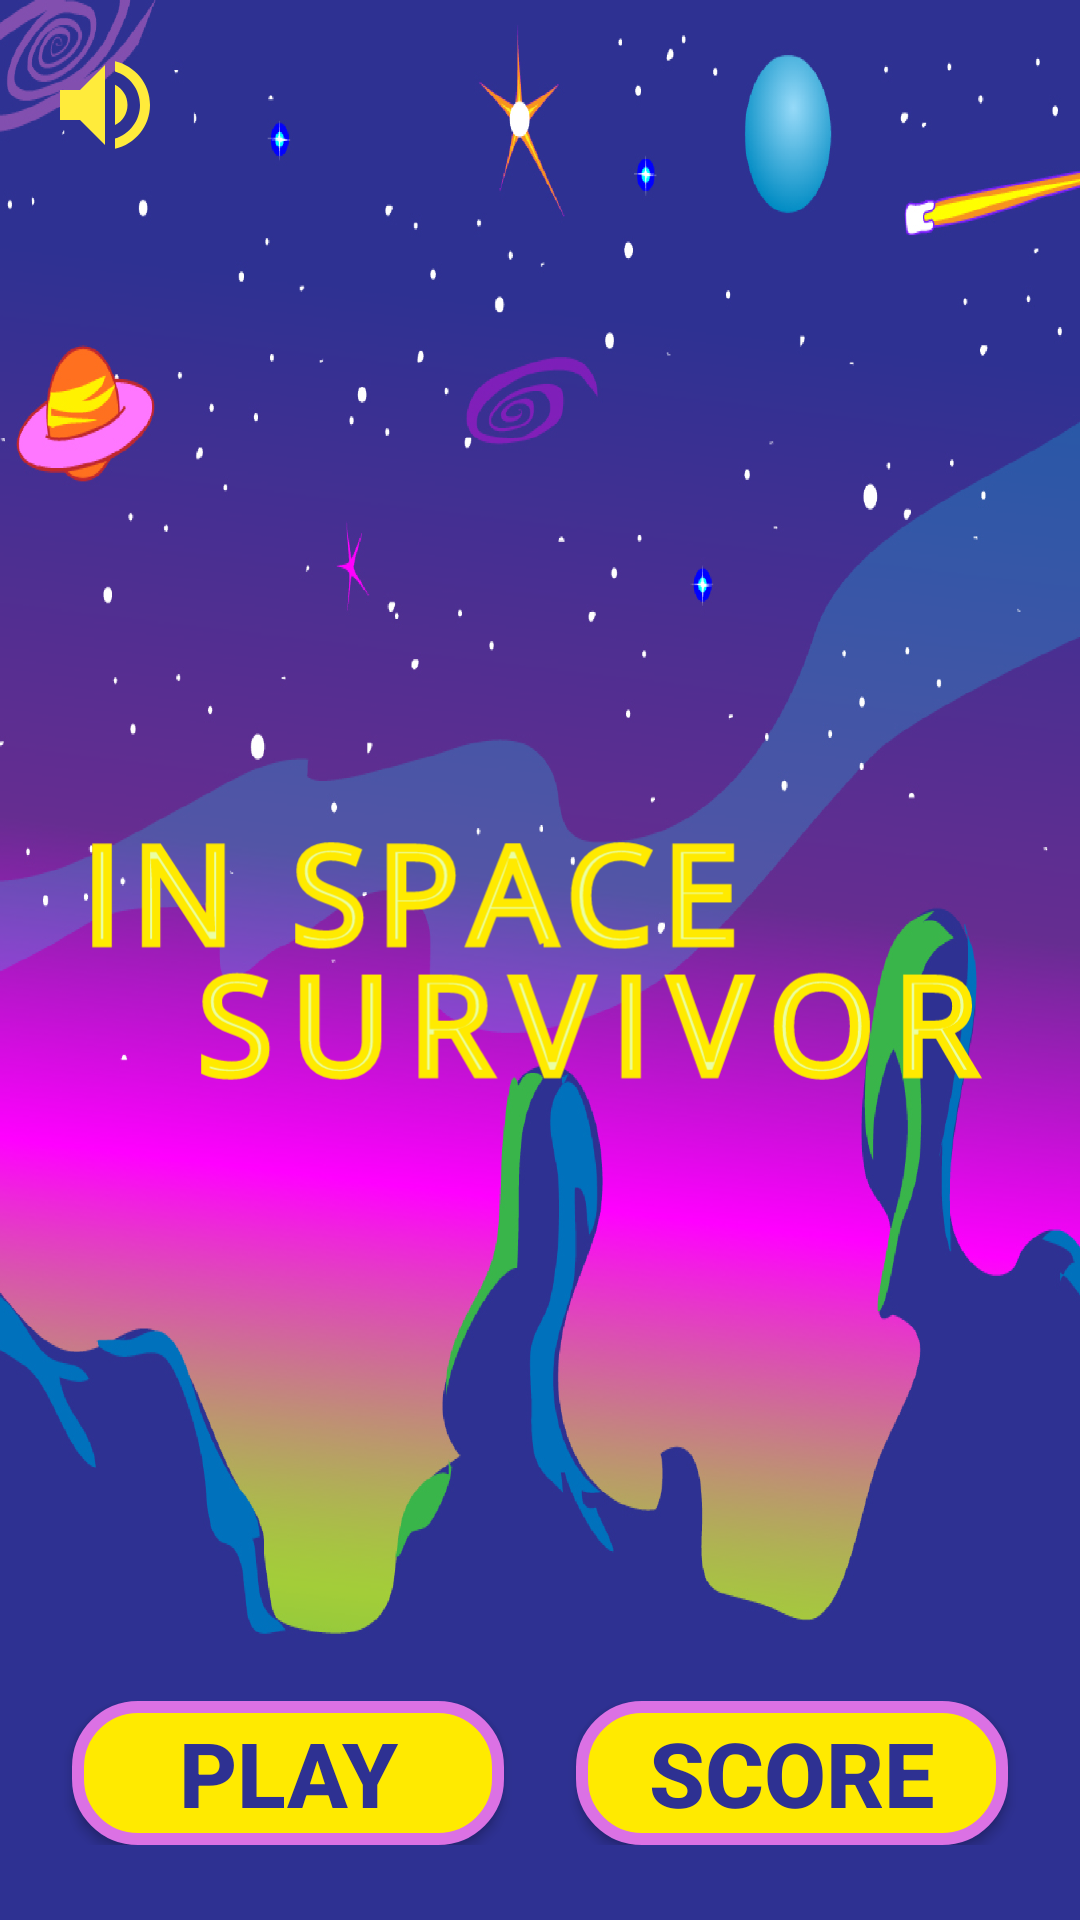

Where icons sit on this 1080×1920 app screen, as bbox(x1, y1, x2, y2):
volume on: bbox(45, 45, 150, 149)
